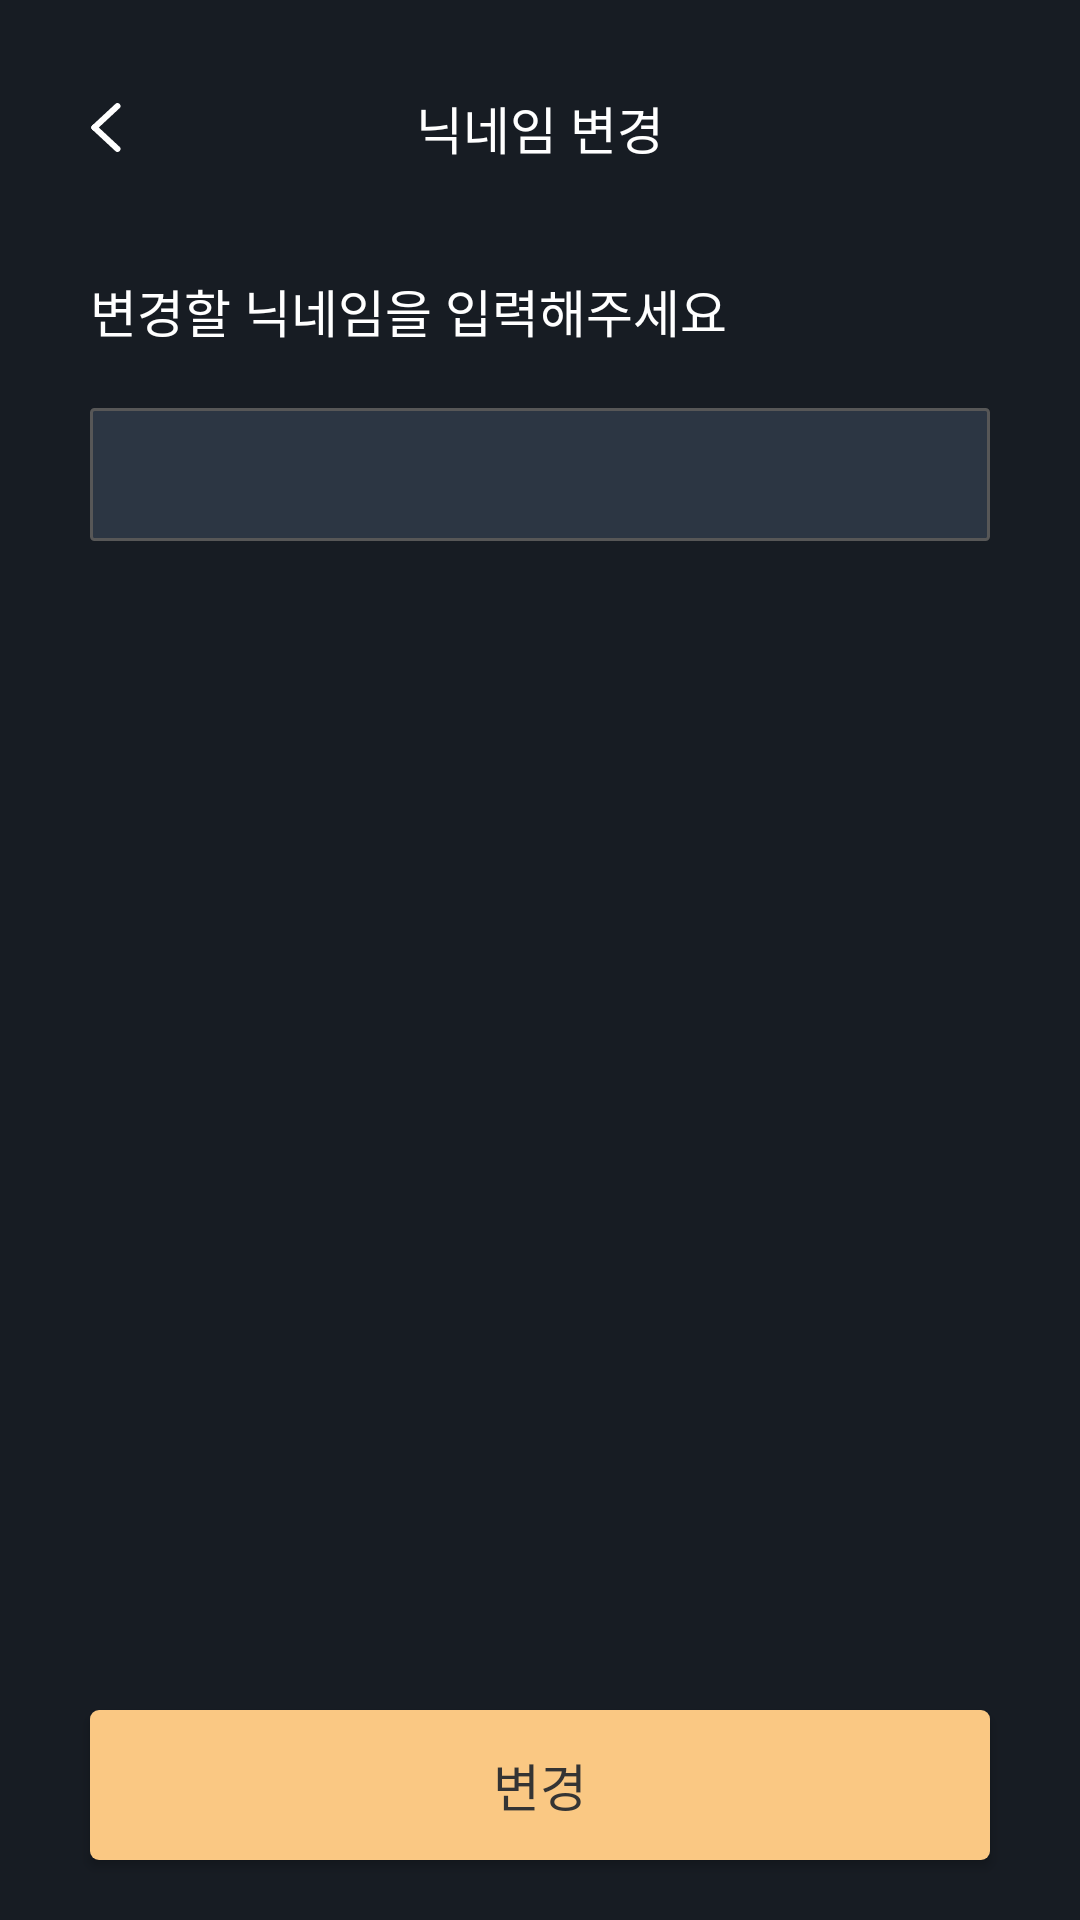

Named icons in this screenshot (1080*1920) and their centers, [x,y]:
back: [106,127]
